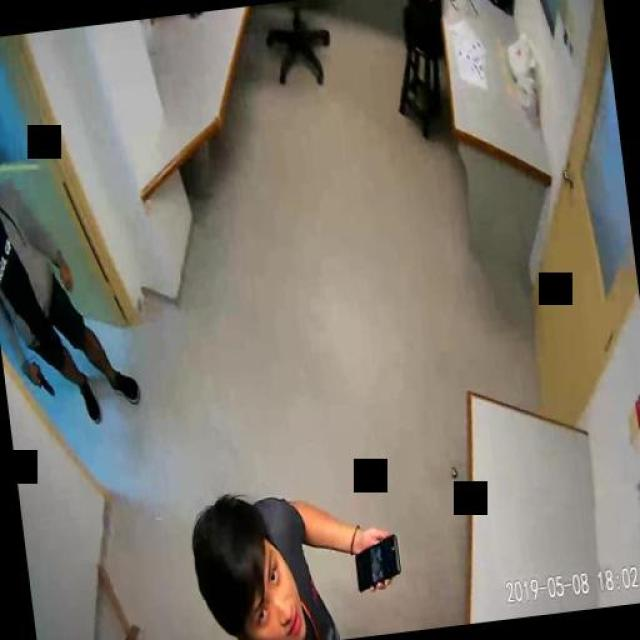gun: (30, 357, 54, 398)
